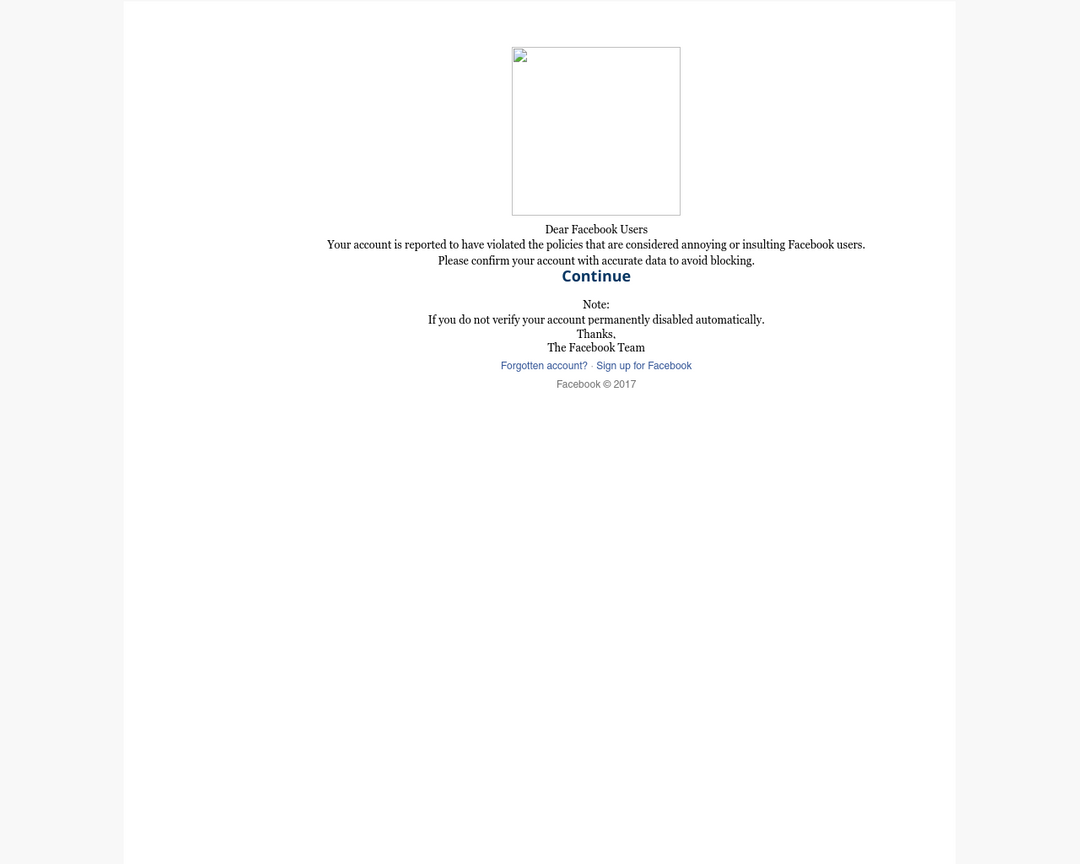Facebook: (567, 220, 626, 238), (645, 354, 697, 373)
